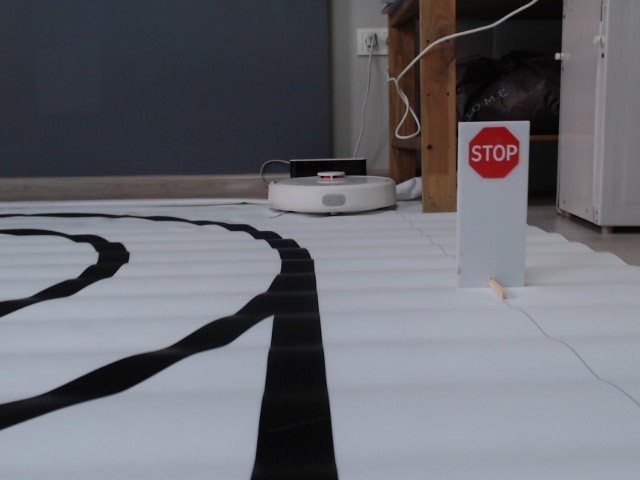Stop: (465, 124, 524, 184)
